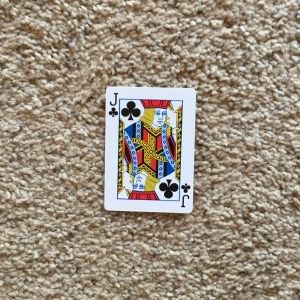card: (103, 84, 197, 216)
